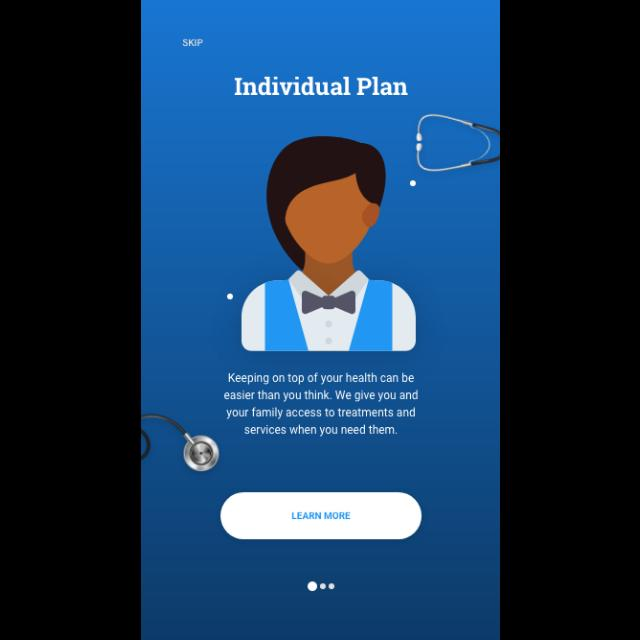image: (226, 115, 499, 352)
pageindicator: (306, 581, 336, 593)
text: (224, 372, 418, 438), (234, 77, 408, 97), (182, 40, 204, 48)
textbutton: (220, 492, 422, 540)
